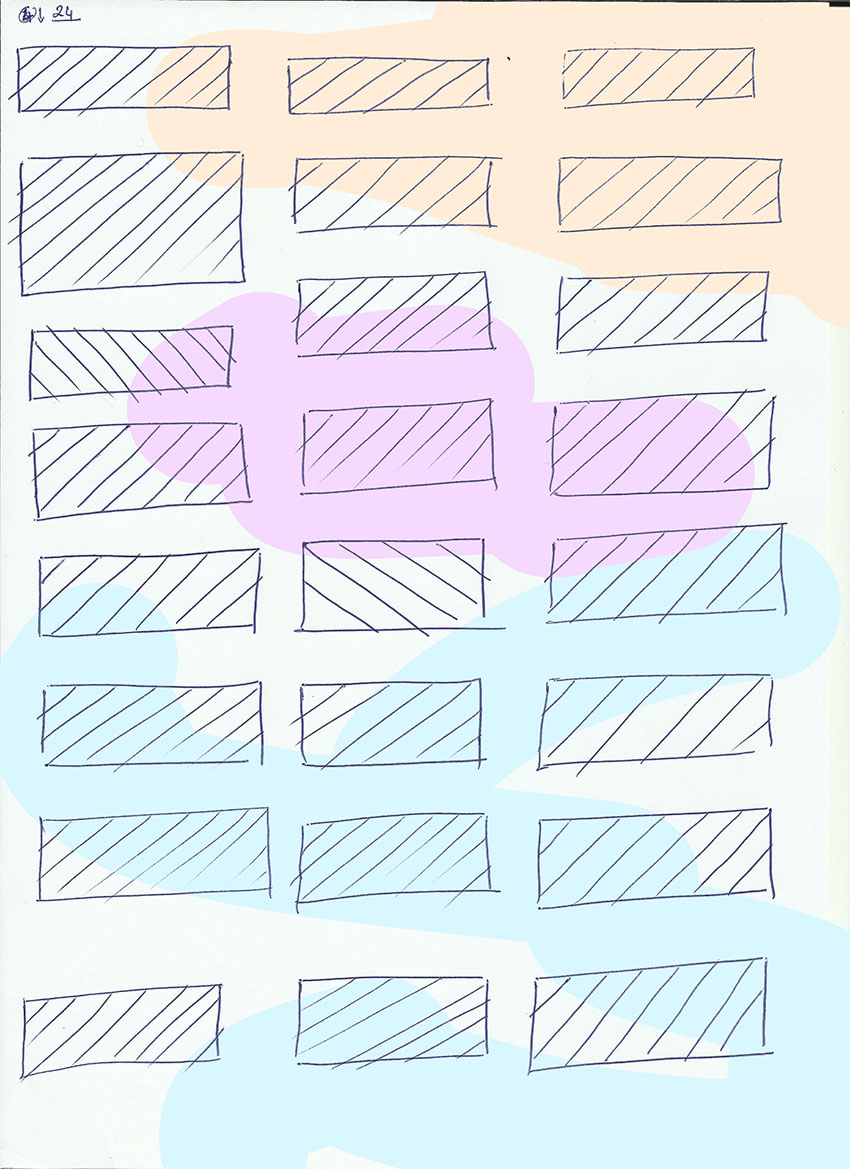frame: (7, 149, 249, 298), (526, 953, 777, 1085), (541, 517, 795, 628), (532, 803, 781, 912), (545, 385, 777, 500), (533, 669, 776, 778), (32, 803, 276, 906), (25, 418, 255, 527), (33, 675, 270, 778), (289, 535, 512, 641), (289, 809, 504, 918), (29, 543, 267, 638), (14, 981, 227, 1083), (293, 396, 500, 498), (289, 973, 493, 1074), (287, 678, 492, 777), (550, 268, 774, 358), (287, 269, 501, 362), (555, 154, 786, 237), (286, 153, 506, 238), (25, 322, 241, 406), (7, 42, 236, 118), (281, 53, 499, 118), (557, 44, 757, 112)
